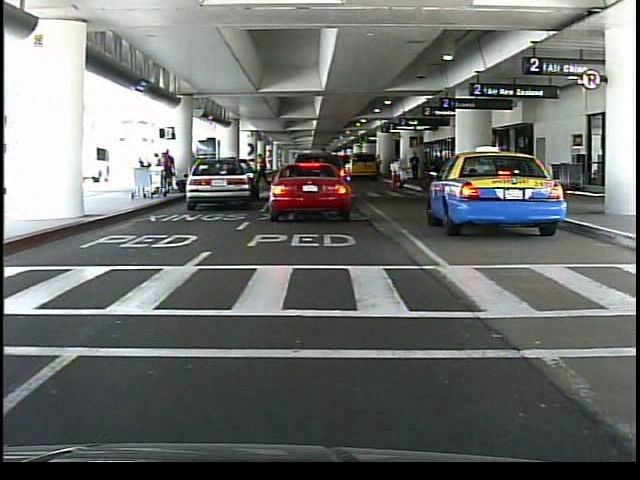person: (163, 149, 178, 198), (319, 154, 334, 202), (257, 153, 274, 192), (392, 152, 407, 190), (304, 165, 316, 202), (411, 153, 423, 185)
